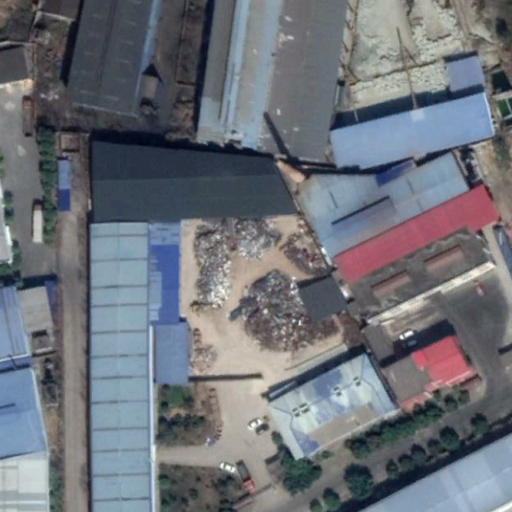msw: (189, 212, 344, 376)
